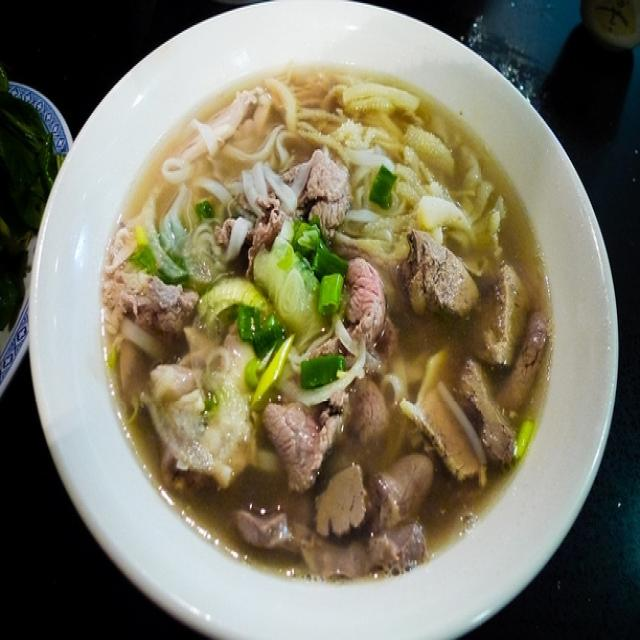面条主食: (93, 61, 564, 576)
